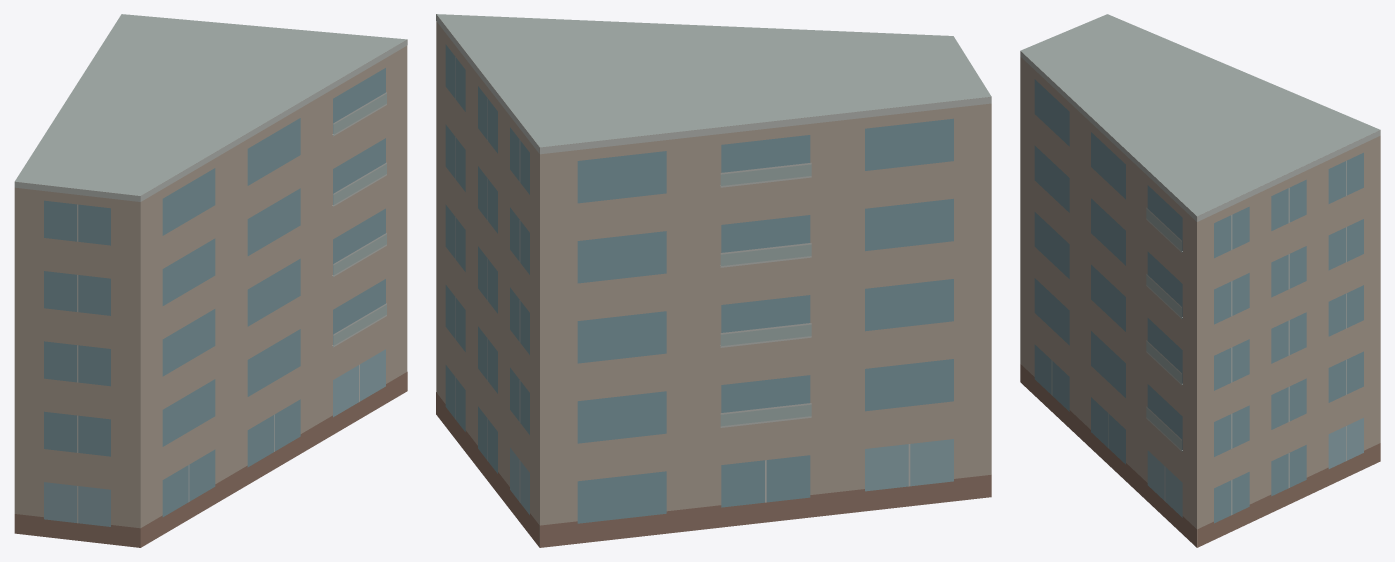
The model's file is survey-upis-32643775.glb.
3 renders of one model, left to right at view 1: azimuth 30°, elevation 25°; view 2: azimuth 150°, elevation 25°; view 3: azimuth 270°, elevation 25°, orthographic. The views are drawn at different scales.
Parts seen in each view (by area): view 1: survey-upis-32643775.tmp; view 2: survey-upis-32643775.tmp; view 3: survey-upis-32643775.tmp.
Boxes of the visible parts, bbox=[...] form: survey-upis-32643775.tmp: bbox=[14, 14, 407, 547]; survey-upis-32643775.tmp: bbox=[436, 14, 991, 547]; survey-upis-32643775.tmp: bbox=[1020, 14, 1380, 547].
Bounding box in the file's own units: 18.74 × 14.3 × 14.1.
